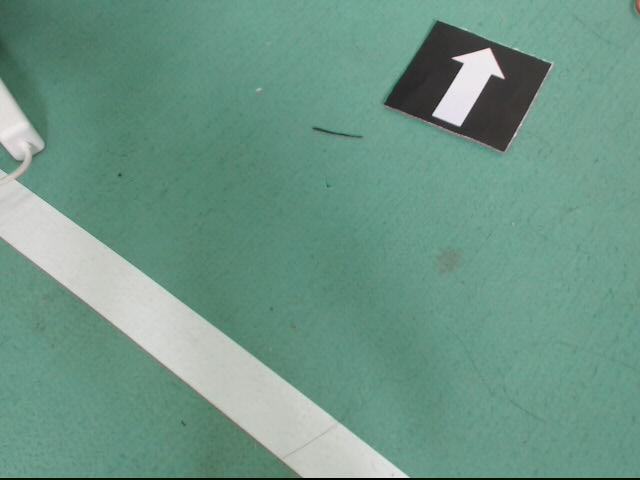straight: (382, 20, 555, 154)
